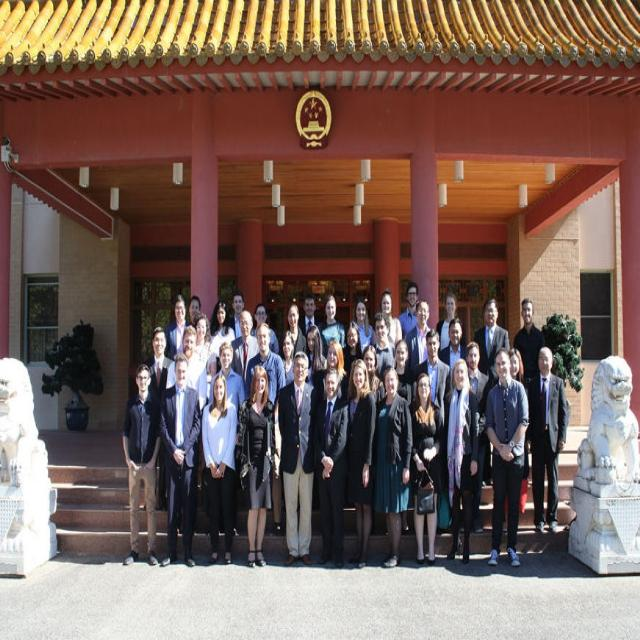body: (485, 344, 531, 570), (159, 351, 203, 568), (244, 322, 287, 535), (278, 347, 319, 567), (235, 362, 278, 570), (121, 361, 162, 568), (526, 342, 569, 538), (374, 364, 414, 572), (443, 355, 480, 563), (46, 470, 129, 562), (200, 372, 238, 566), (474, 295, 511, 486), (345, 357, 378, 568), (315, 367, 348, 569), (408, 371, 442, 566), (460, 339, 490, 536), (512, 297, 545, 466), (148, 325, 176, 512), (412, 328, 451, 430), (165, 325, 208, 394), (208, 341, 247, 416), (229, 308, 260, 382), (316, 292, 348, 360), (318, 337, 350, 404), (435, 291, 467, 355), (406, 298, 434, 370), (393, 338, 418, 418), (163, 292, 191, 363), (208, 298, 236, 367), (371, 311, 398, 380), (279, 300, 308, 360), (438, 317, 467, 377), (249, 301, 279, 356), (362, 342, 386, 407), (302, 323, 327, 382), (379, 288, 404, 346), (352, 295, 376, 355), (341, 319, 364, 377), (398, 280, 420, 340), (298, 291, 322, 339), (277, 328, 296, 387), (193, 313, 213, 369), (225, 292, 249, 338), (442, 557, 490, 576), (520, 438, 531, 512), (185, 294, 201, 326), (509, 349, 524, 380)
